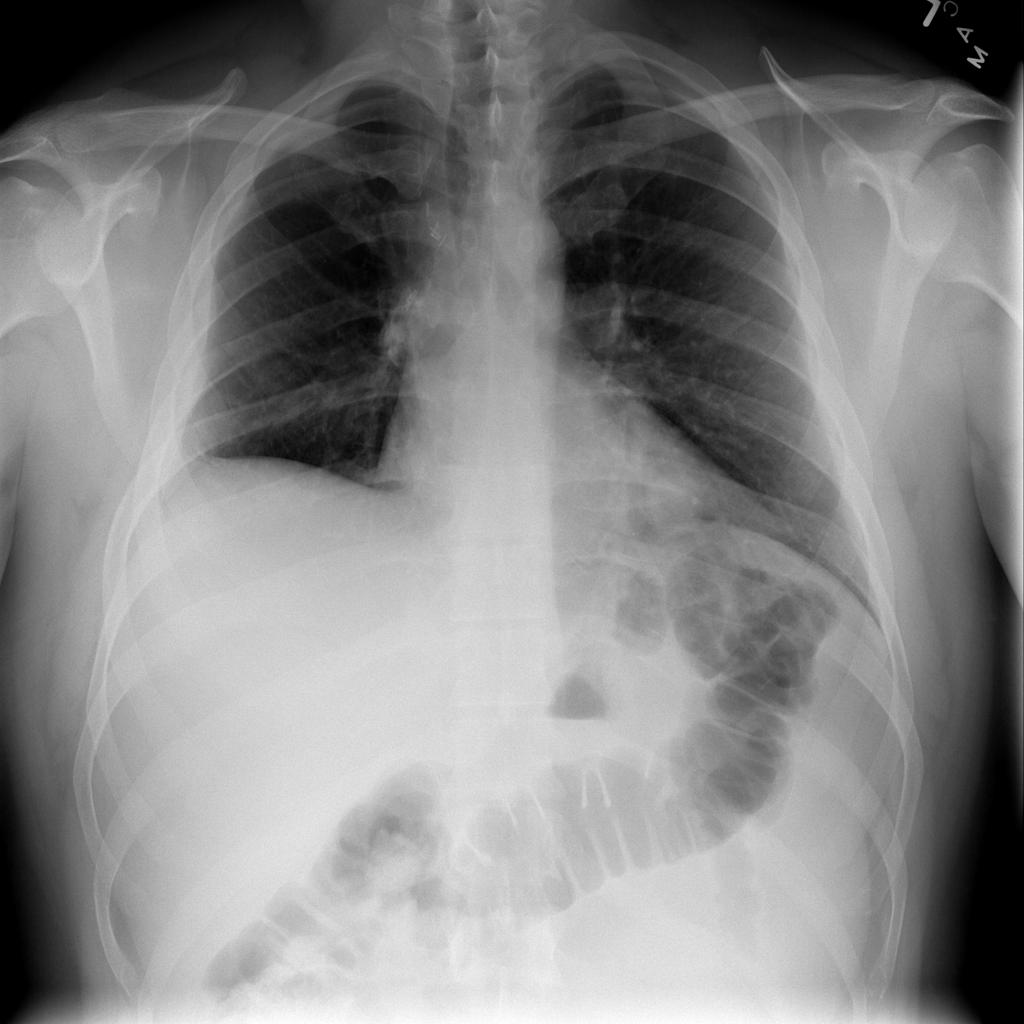nodule: (634, 457, 712, 537)
